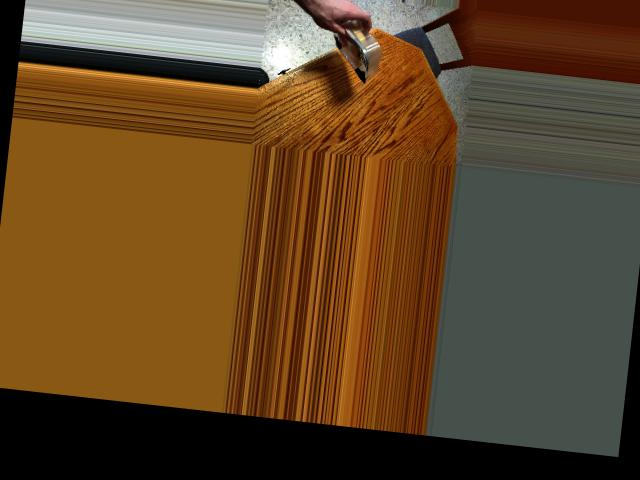cheese: (321, 14, 398, 79)
